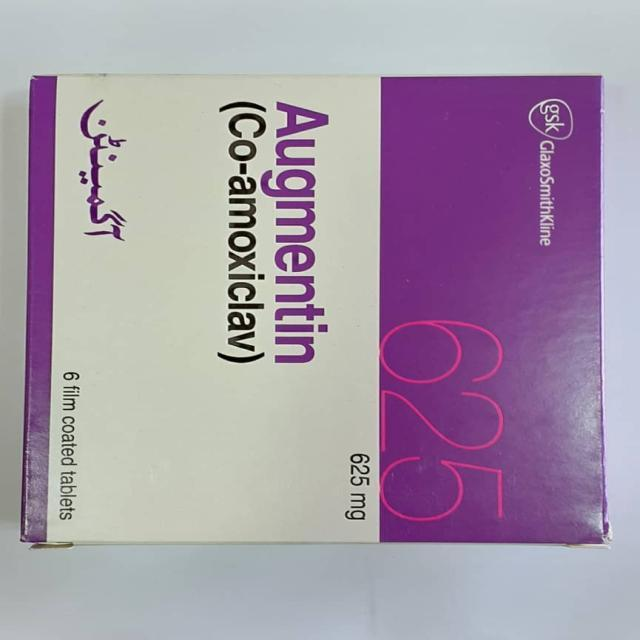drug-name: (259, 99, 334, 368)
